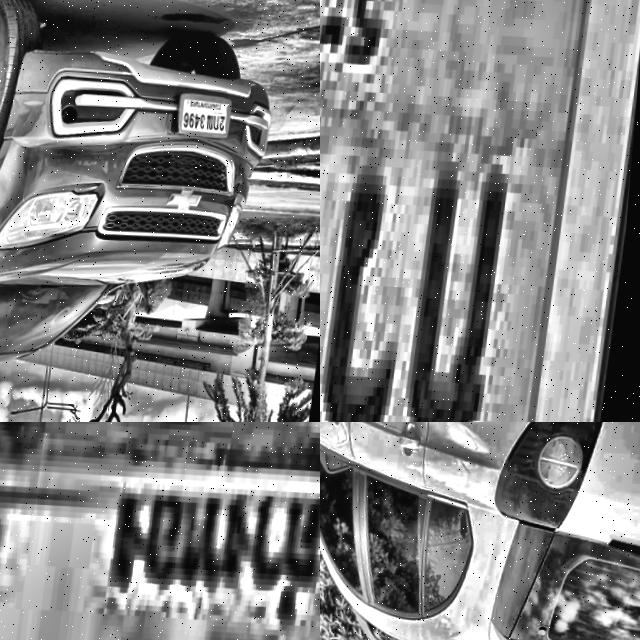license-plate: (320, 0, 640, 422), (0, 422, 320, 640), (174, 89, 236, 139)
